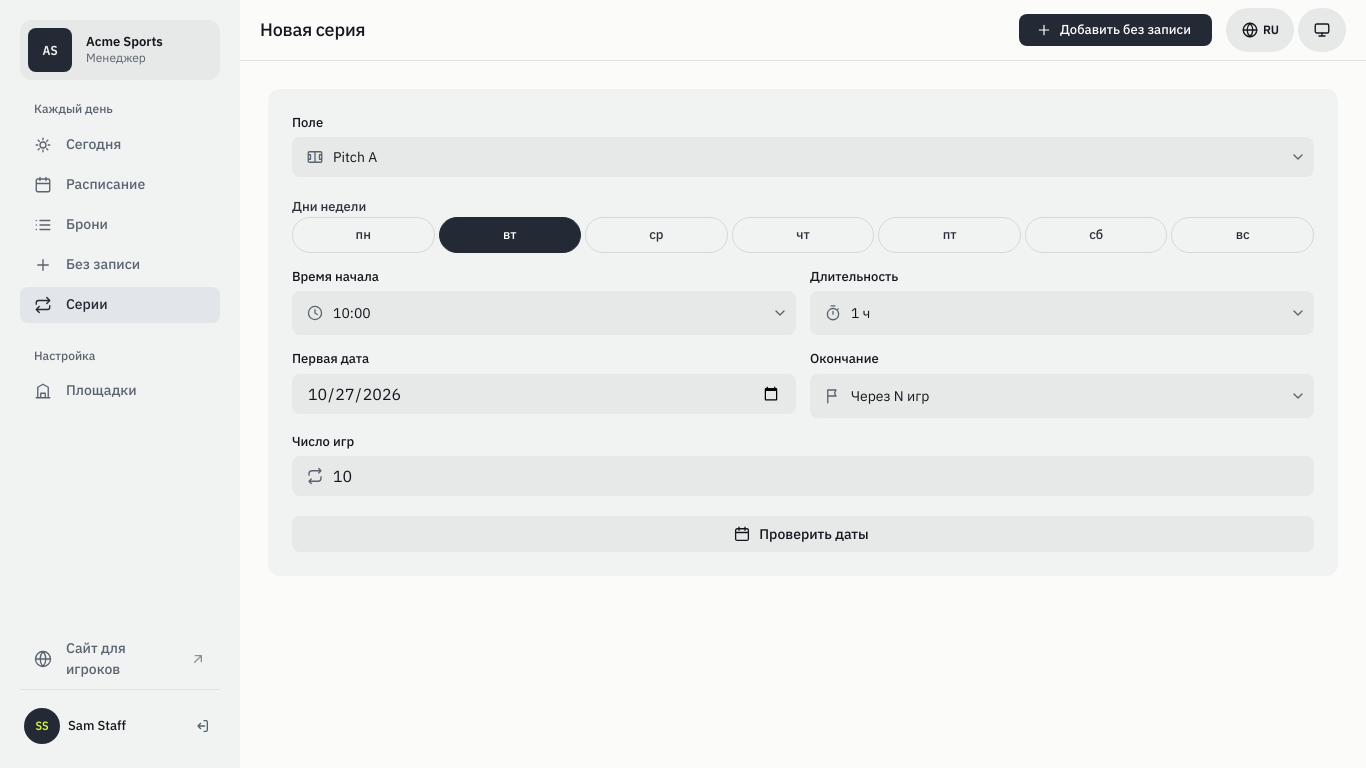
Test: New series page › renders in Russian
Check: the heading "Новая серия" is shown, box [260,18,365,41]
Check: the button "пн" is shown, box [292,217,435,253]
Click the button "Проверить даты" at point(803, 534), box [292,516,1314,552]
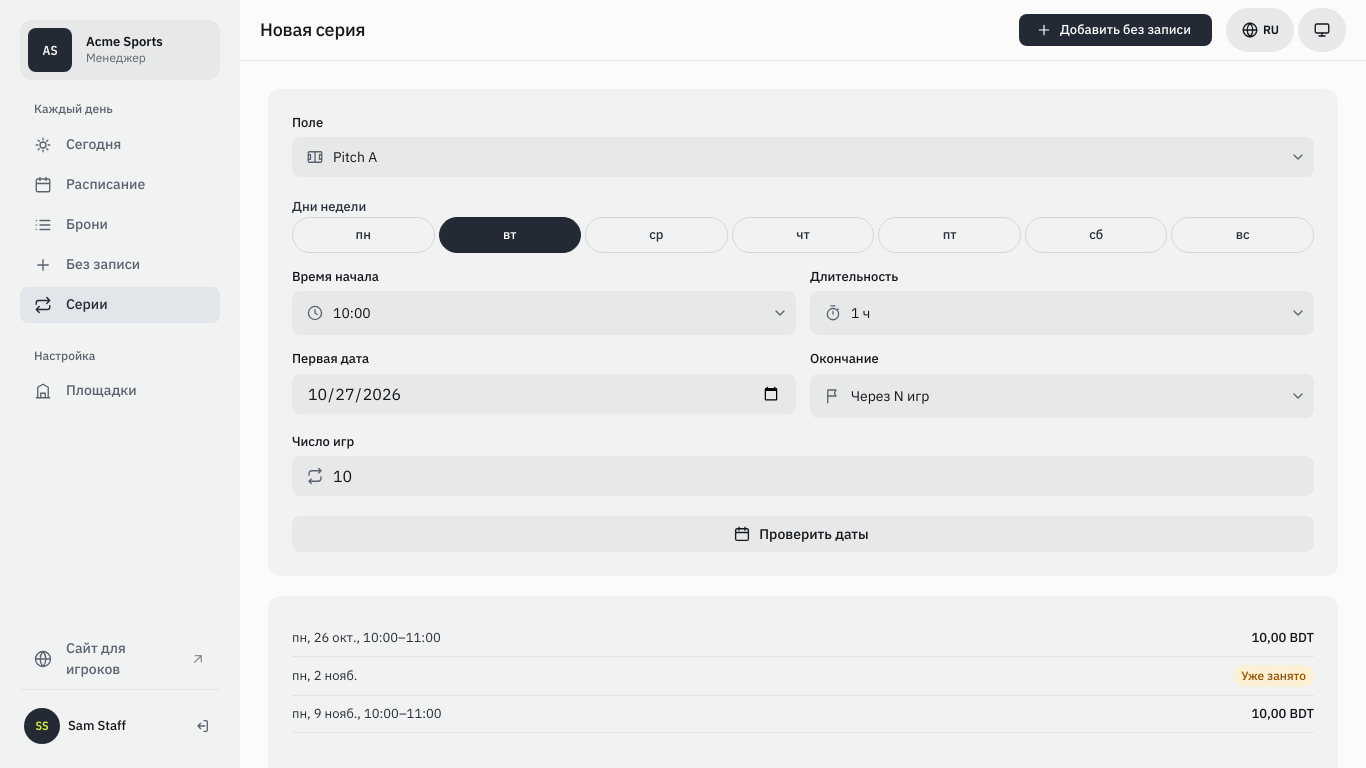
Check: the text "Уже занято" is shown, box [1233,665,1314,687]
